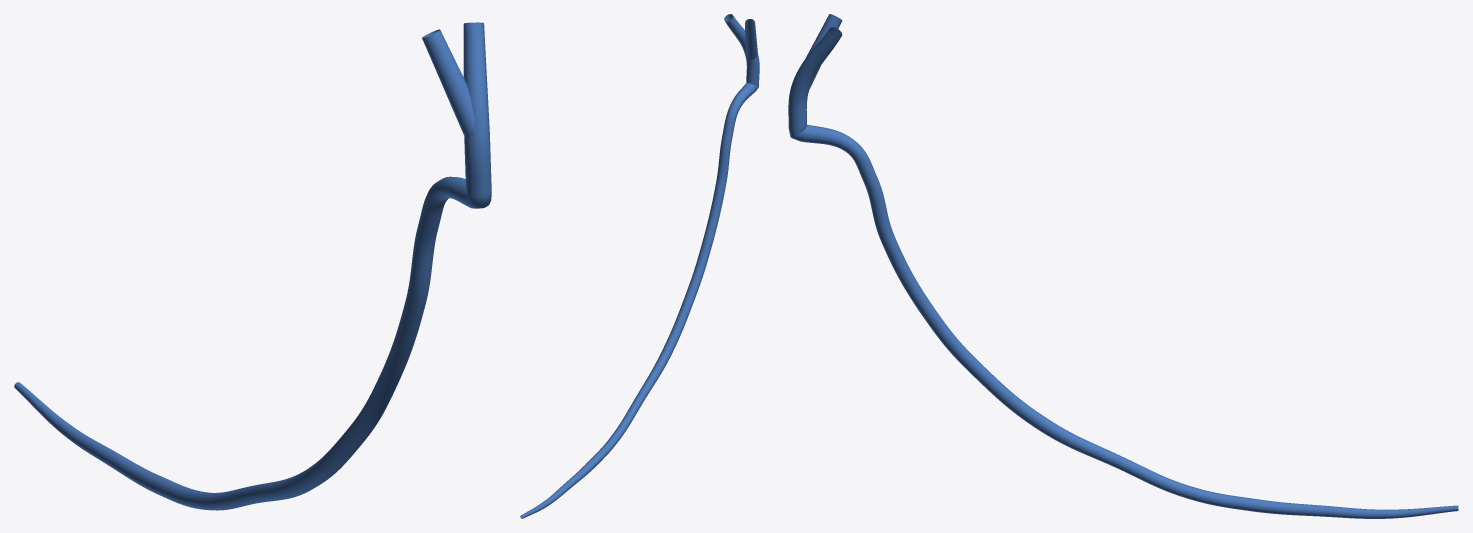
The picture shows the model from 3 angles, left to right: view 1: azimuth 30°, elevation 25°; view 2: azimuth 150°, elevation 25°; view 3: azimuth 270°, elevation 25°; orthographic projection. The views are drawn at different scales.
Visible parts, largest first — view 1: 阴茎背深静脉; view 2: 阴茎背深静脉; view 3: 阴茎背深静脉.
Part boxes in pixels (bbox=[...]): 阴茎背深静脉: bbox=[14, 22, 491, 510]; 阴茎背深静脉: bbox=[520, 14, 759, 518]; 阴茎背深静脉: bbox=[788, 14, 1458, 518].
Size of the model in its own units: 0.00794 by 0.0877 by 0.1072.
